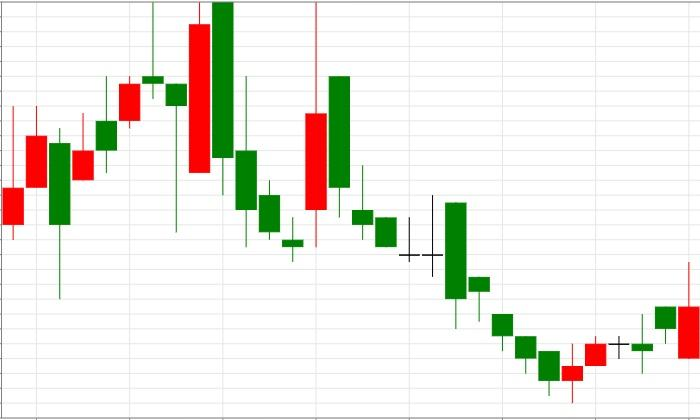evening_star_fall: (49, 1, 187, 299)
